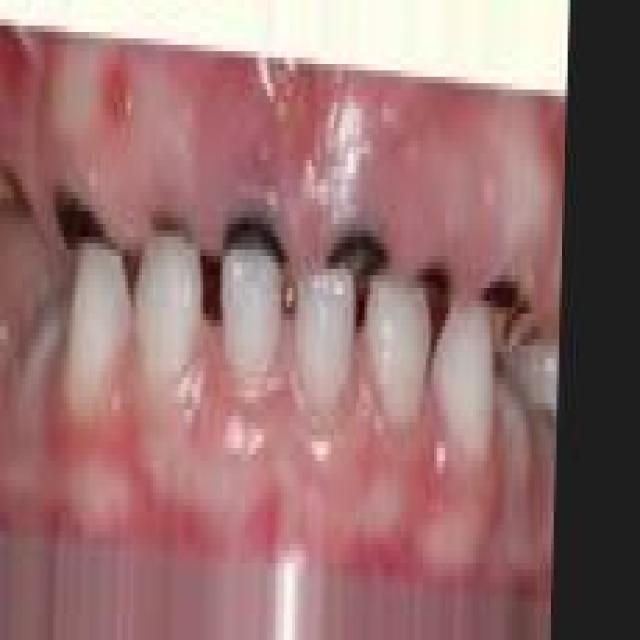caries: (320, 197, 395, 316), (404, 227, 464, 335)
